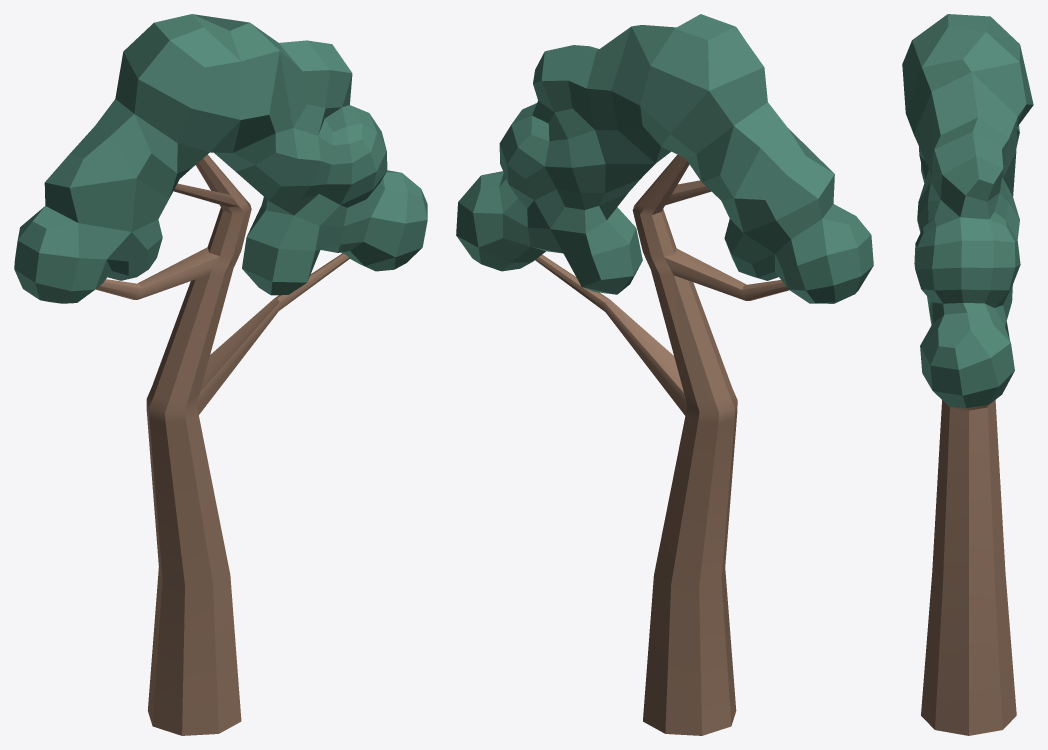
The model's file is Arbol.fbx.
3 views of the same model, side by side, from view 1: azimuth 30°, elevation 25°; view 2: azimuth 150°, elevation 25°; view 3: azimuth 270°, elevation 25° (orthographic).
Visible parts, largest first — view 1: Escenario:Arbol; view 2: Escenario:Arbol; view 3: Escenario:Arbol.
Part boxes in pixels (x1,y1,x2,y2): Escenario:Arbol: (14,14,427,735); Escenario:Arbol: (456,14,873,735); Escenario:Arbol: (902,14,1033,735).
Bounding box in the file's own units: 2.98 × 4.9 × 0.848.
